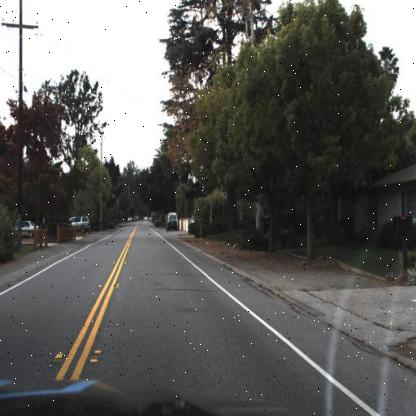car: (61, 206, 97, 236), (63, 210, 91, 234), (17, 215, 41, 238), (165, 214, 179, 234)
